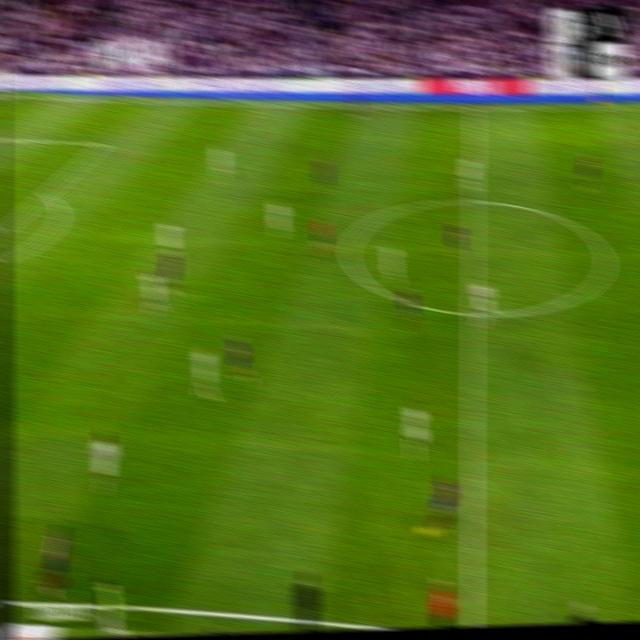bigarea_top_inner: (96, 134, 111, 152)
corner: (0, 89, 13, 100)
halfcircle_bottom: (464, 299, 482, 327)
halfcircle_top: (464, 187, 483, 215)
midline_top_intersection: (466, 99, 482, 119)
top_arc_area_intersection: (39, 184, 53, 201)
